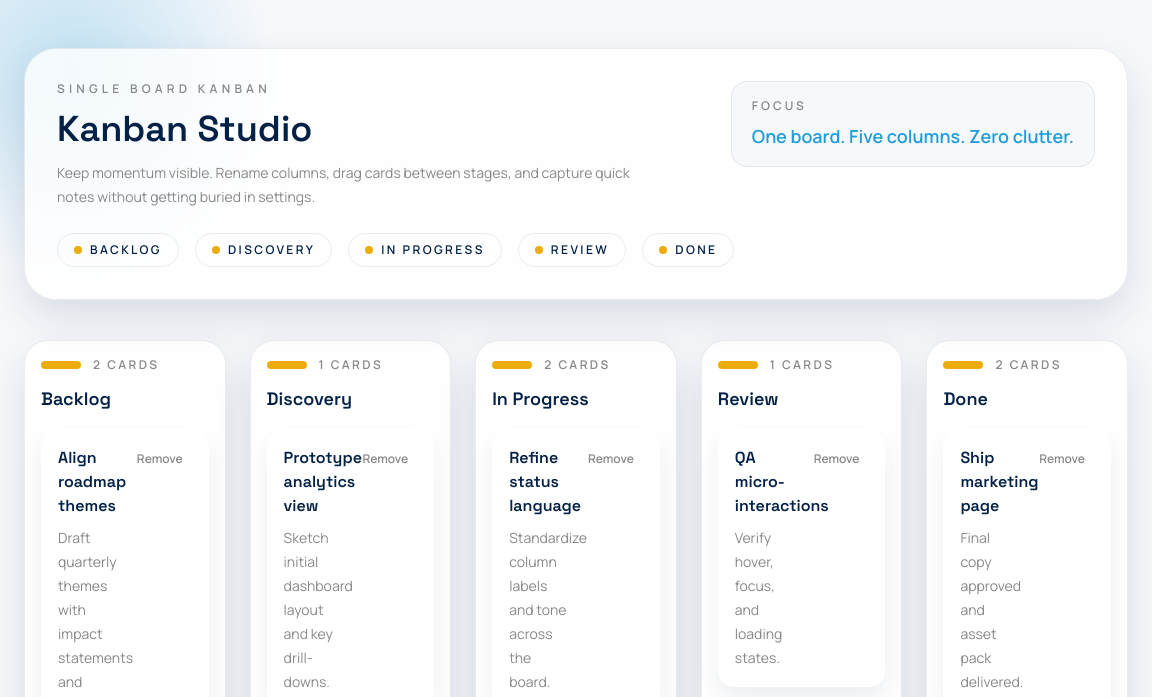
KanbanBoard › edits a card's title inline and persists it
Step 1. Click the heading "Align roadmap themes" → (87, 482), box top-left (58, 446), bottom-right (116, 518)
(page scrolled)
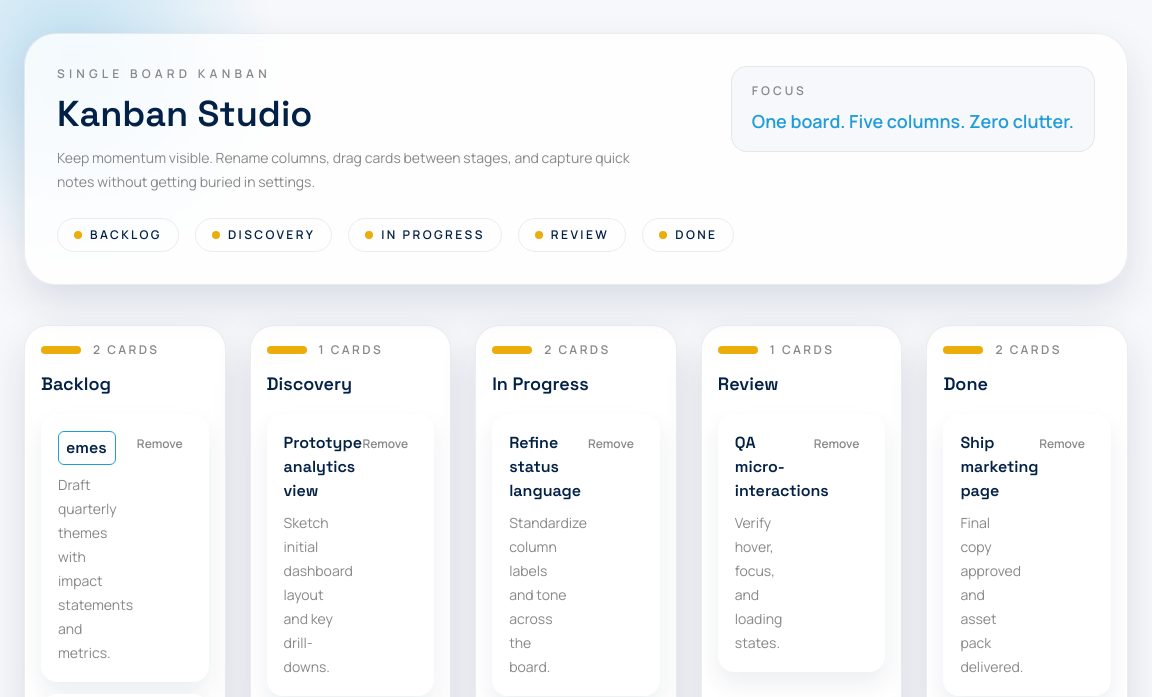
Step 2. Replace the text in the field named "Card title" with "Renamed card" → (87, 448), box top-left (58, 431), bottom-right (116, 465)
Then press Enter
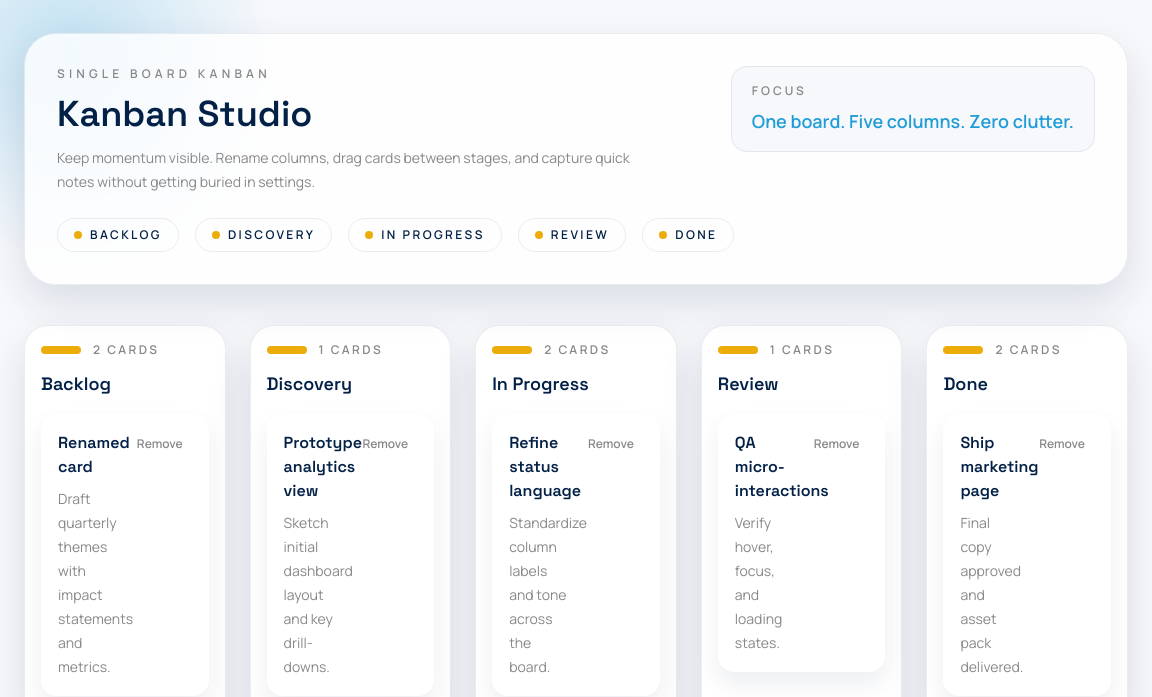
Now the heading "Renamed card" is shown, box top-left (58, 431), bottom-right (116, 479)
